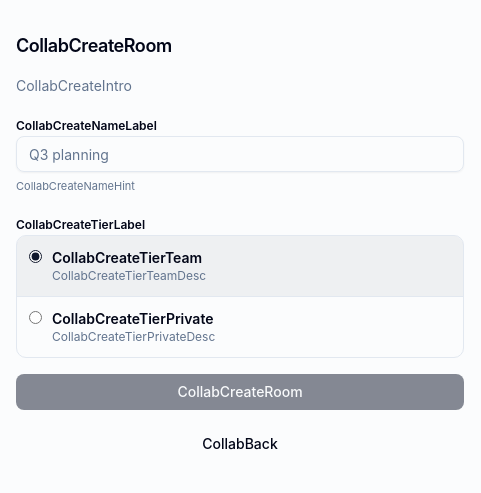
Test: CollabEditor create flow (053/054/048) › private room: 32-byte roomSecret minted into the invite
Click the label with test id "collab-create-tier-private" at (122, 327), box x1=29 y1=310 x2=215 y2=344
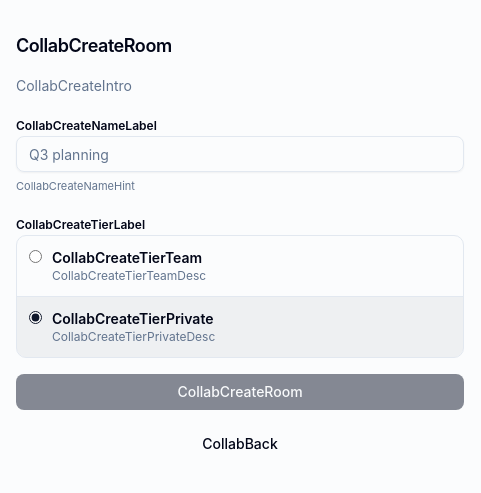
Type "Design review" into the field with test id "collab-create-name" at (240, 154), box x1=16 y1=136 x2=464 y2=172
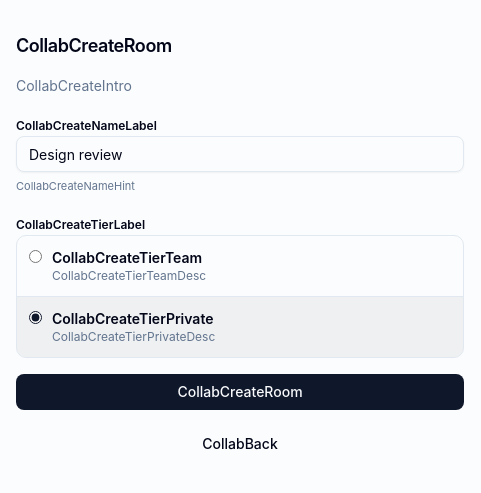
Click the button with test id "collab-create-submit" at (240, 392), box x1=16 y1=374 x2=464 y2=410
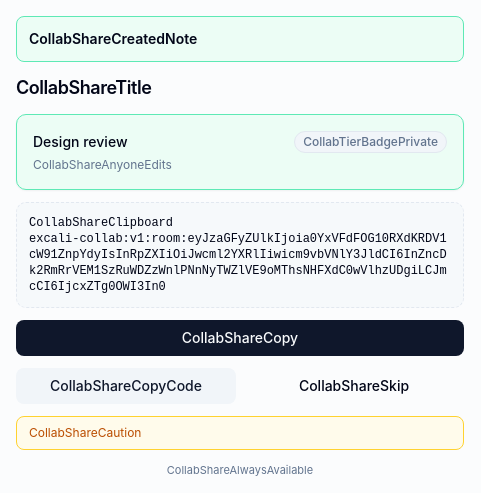
Expected: the element with test id "collab-share-step" is shown
